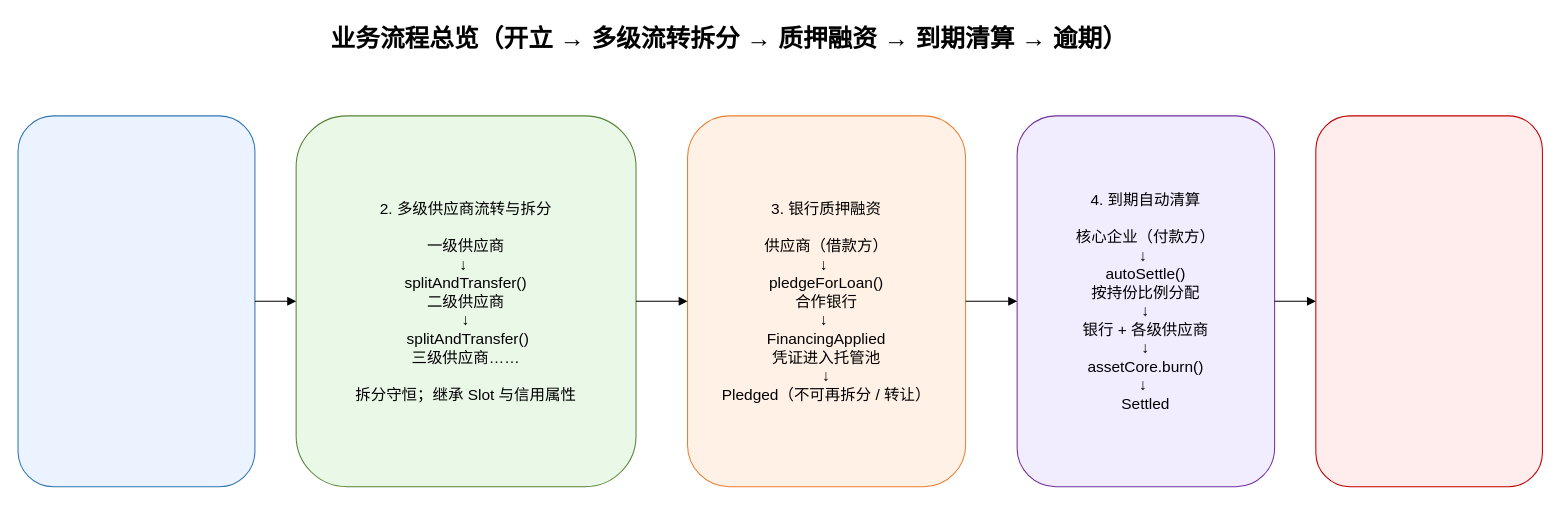
Image size: 1560x505. Some labels were removed from this diagram. The box of each missing label's shape, as (x1, y1, x2, y2) in pixels:
1. 核心企业开立凭证 mint 凭证（Uncirculated） ↓ 托管资金存入（escrowDeposit） ↓ 托管池（escrowBalance）: (17, 115, 255, 487)
5. 逾期处理 到期未自动清算 ↓ Overdue ↓ 进入逾期处置: (1315, 115, 1542, 487)
